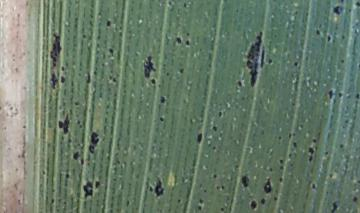tarspot: (240, 28, 268, 89), (48, 29, 62, 71), (84, 128, 102, 155), (141, 50, 157, 80), (55, 114, 74, 134), (153, 171, 164, 201), (329, 1, 346, 20), (80, 179, 97, 198), (261, 177, 275, 195), (239, 173, 252, 189), (47, 71, 59, 88), (247, 196, 259, 213), (335, 139, 348, 153), (305, 142, 317, 157), (82, 70, 93, 86), (325, 87, 336, 103), (195, 129, 205, 145), (290, 139, 302, 152), (209, 121, 220, 135), (324, 30, 335, 44), (329, 196, 338, 213), (103, 16, 112, 32), (290, 58, 302, 70), (71, 150, 82, 163), (92, 178, 103, 191), (157, 113, 168, 126), (148, 76, 162, 86), (107, 44, 116, 59), (159, 93, 170, 105), (209, 170, 221, 181), (265, 54, 275, 67), (306, 155, 320, 164), (214, 108, 226, 118), (309, 180, 318, 193), (235, 77, 244, 90), (278, 163, 288, 174), (217, 203, 228, 213), (59, 73, 68, 85), (177, 64, 186, 76), (349, 193, 358, 205), (48, 195, 57, 207), (174, 34, 182, 47), (184, 39, 192, 51), (314, 26, 322, 38), (337, 89, 344, 102), (195, 196, 205, 205), (276, 156, 285, 166), (259, 195, 267, 206), (278, 174, 286, 185), (64, 170, 71, 181), (337, 56, 345, 65), (211, 143, 218, 152), (324, 148, 330, 158), (355, 91, 360, 101), (149, 184, 154, 192), (197, 211, 204, 213)
